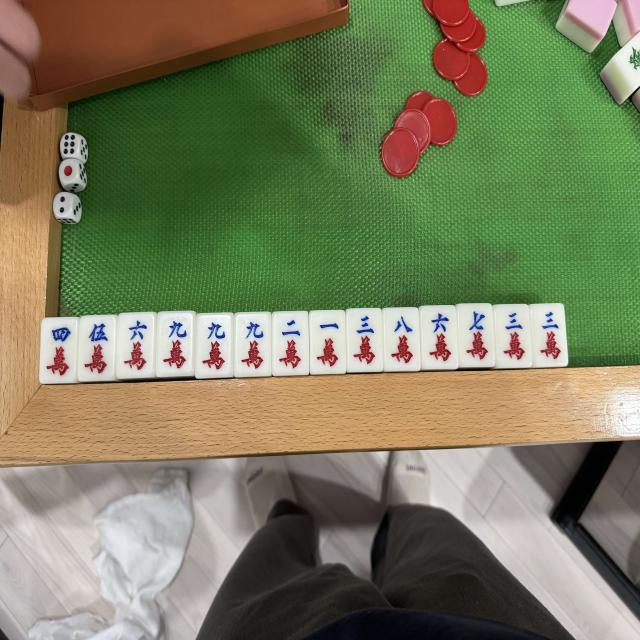1C: (314, 317, 343, 369)
2C: (276, 317, 304, 370)
3C: (498, 306, 531, 366), (533, 305, 565, 365), (349, 314, 379, 368)
4C: (45, 320, 77, 379)
5C: (83, 320, 115, 378)
6C: (122, 317, 154, 373), (424, 309, 454, 366)
7C: (461, 308, 490, 364)
8C: (386, 312, 417, 367)
9C: (200, 320, 231, 374), (161, 317, 192, 371), (238, 318, 270, 370)
GD: (616, 32, 640, 83)
